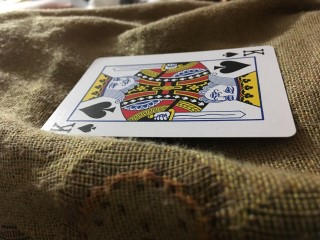KingOfSpades: (40, 45, 297, 137)
